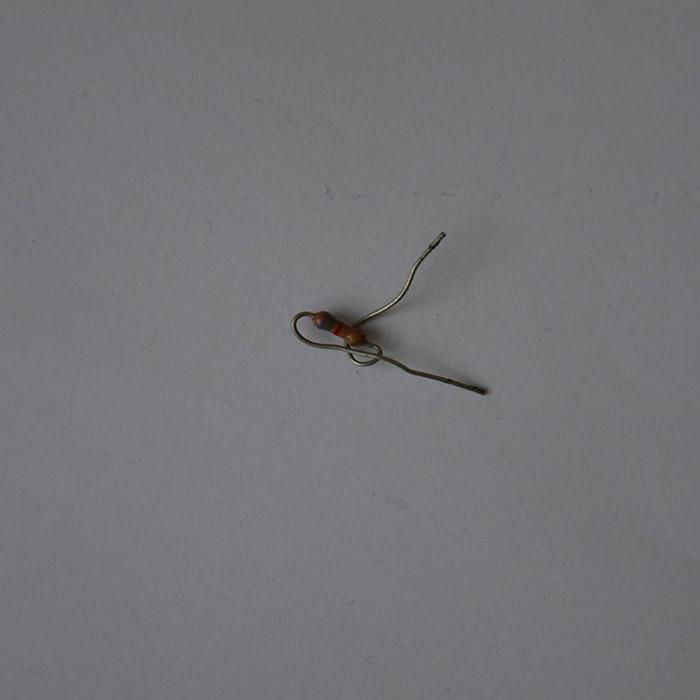resistor: (312, 311, 365, 346)
